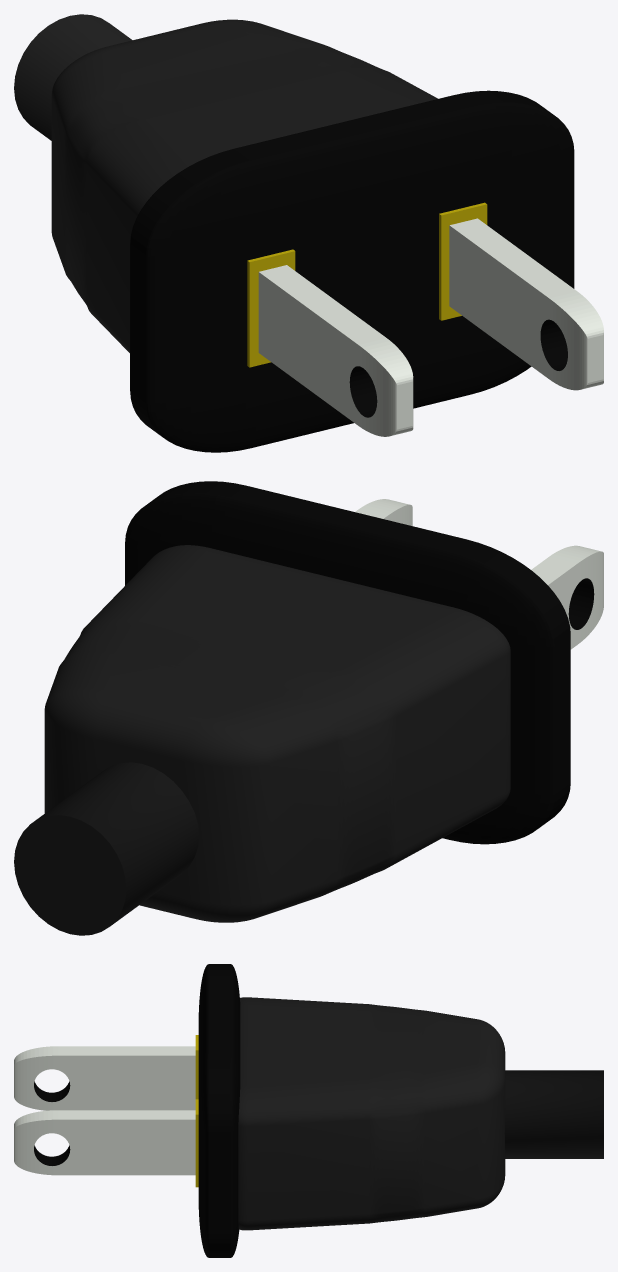
File: plug.glb
The picture shows the model from 3 angles, top to bottom: view 1: azimuth 30°, elevation 25°; view 2: azimuth 150°, elevation 25°; view 3: azimuth 270°, elevation 25°; orthographic projection. The views are drawn at different scales.
Parts seen in each view (by area): view 1: Cube_3, Cube.002_5, Cube.005_6, Cylinder_9, Cube.003_8, Cube.004_7; view 2: Cube.002_5, Cube_3, Cylinder_9, Cube.005_6; view 3: Cube.002_5, Cube.005_6, Cube_3, Cylinder_9.
Boxes of the visible parts, left/top/right/bottom form: Cube_3: left=130, top=90, right=574, bottom=452; Cube.002_5: left=51, top=19, right=437, bottom=352; Cube.005_6: left=258, top=218, right=603, bottom=436; Cylinder_9: left=14, top=14, right=132, bottom=140; Cube.003_8: left=247, top=249, right=295, bottom=367; Cube.004_7: left=439, top=202, right=487, bottom=320; Cube.002_5: left=44, top=545, right=510, bottom=922; Cube_3: left=125, top=481, right=570, bottom=844; Cylinder_9: left=14, top=762, right=199, bottom=935; Cube.005_6: left=355, top=499, right=603, bottom=649; Cube.002_5: left=238, top=997, right=505, bottom=1230; Cube.005_6: left=14, top=1046, right=195, bottom=1175; Cube_3: left=198, top=964, right=240, bottom=1257; Cylinder_9: left=504, top=1070, right=603, bottom=1158.
Size of the model in its own units: 3.8 by 2.44 by 6.6.
